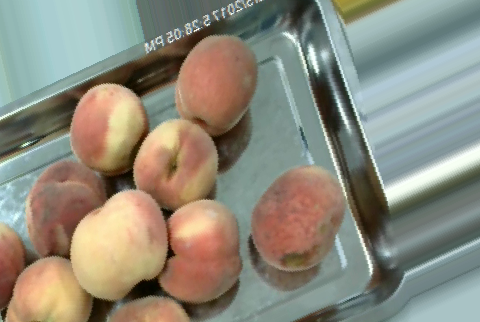Peach: (67, 192, 170, 298), (246, 164, 343, 270), (160, 198, 242, 306), (175, 34, 257, 134), (24, 159, 106, 256), (133, 119, 220, 210), (68, 83, 148, 174), (4, 255, 92, 320)
